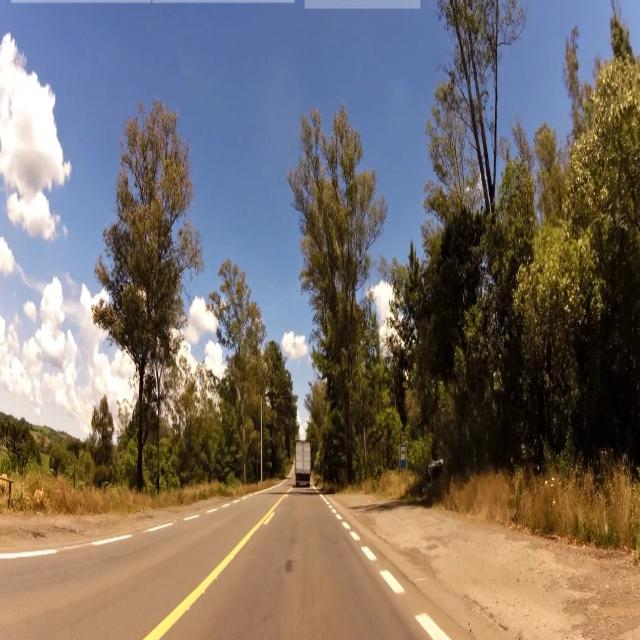S-14: (400, 444, 406, 468)
